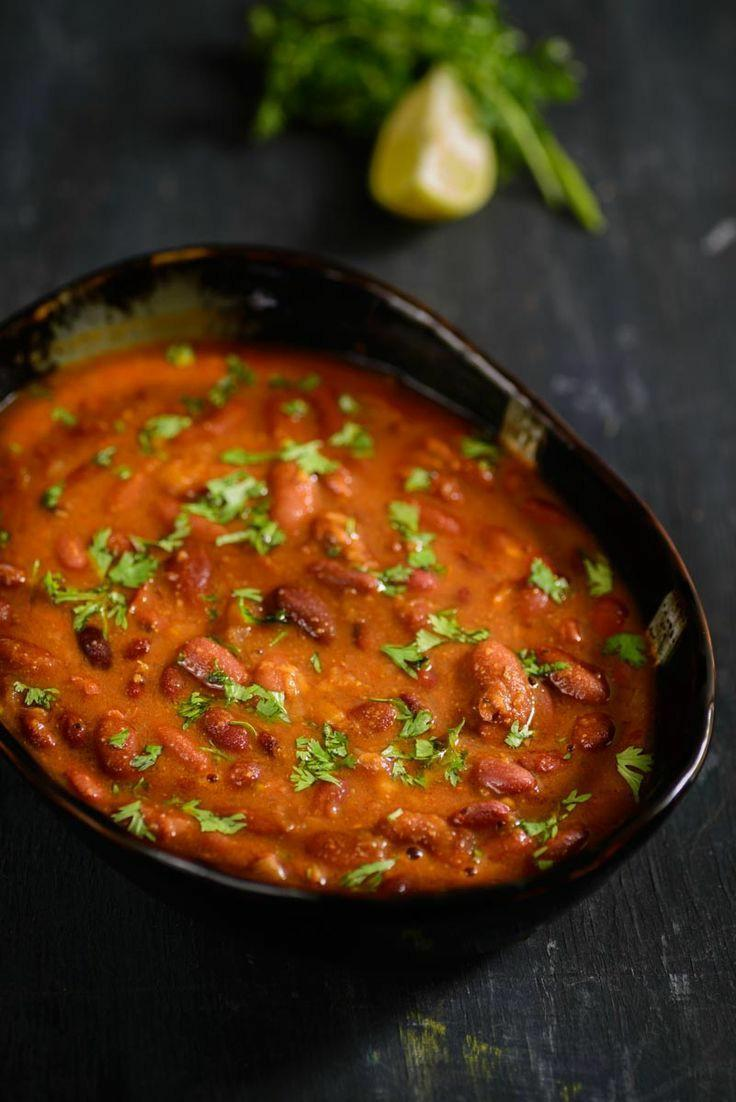RajmaCurry: (6, 337, 658, 882)
